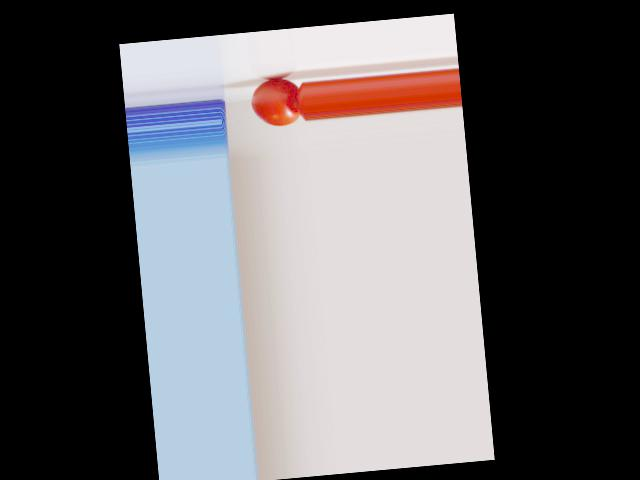tomato: (249, 76, 300, 128)
